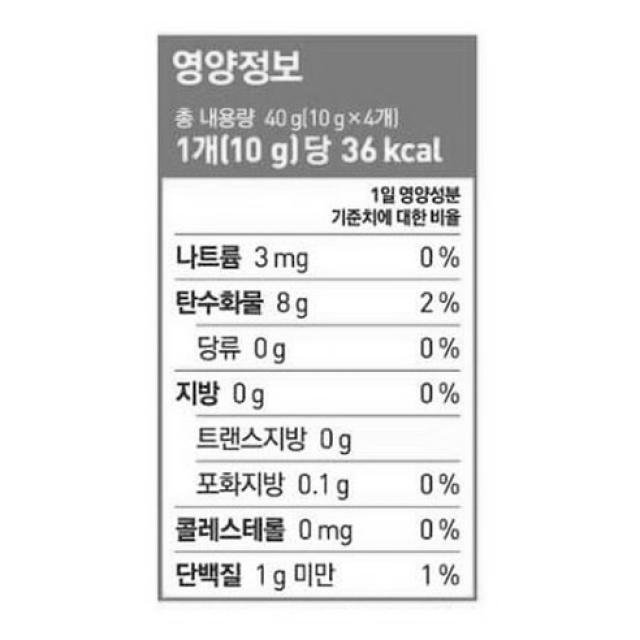Nutrition Label: (144, 20, 492, 612)
